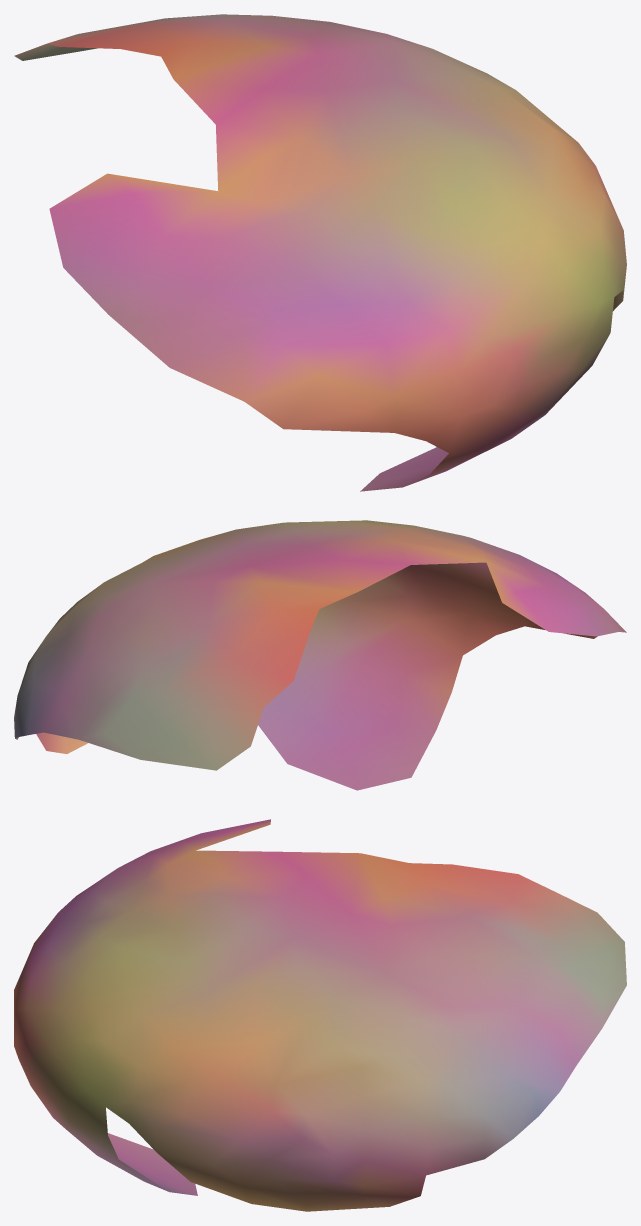
Rendered from space-nebulae-nebula_v33.glb.
The picture shows the model from 3 angles, top to bottom: view 1: azimuth 30°, elevation 25°; view 2: azimuth 150°, elevation 25°; view 3: azimuth 270°, elevation 25°; orthographic projection. The views are drawn at different scales.
Visible parts, largest first — view 1: Nebula_v33; view 2: Nebula_v33; view 3: Nebula_v33.
Part boxes in pixels (box(x1,y1,x2,y2)): Nebula_v33: box(14, 14, 626, 491); Nebula_v33: box(14, 520, 626, 790); Nebula_v33: box(14, 819, 626, 1211).
Bounding box in the file's own units: 0.4504 × 0.2532 × 0.5.
